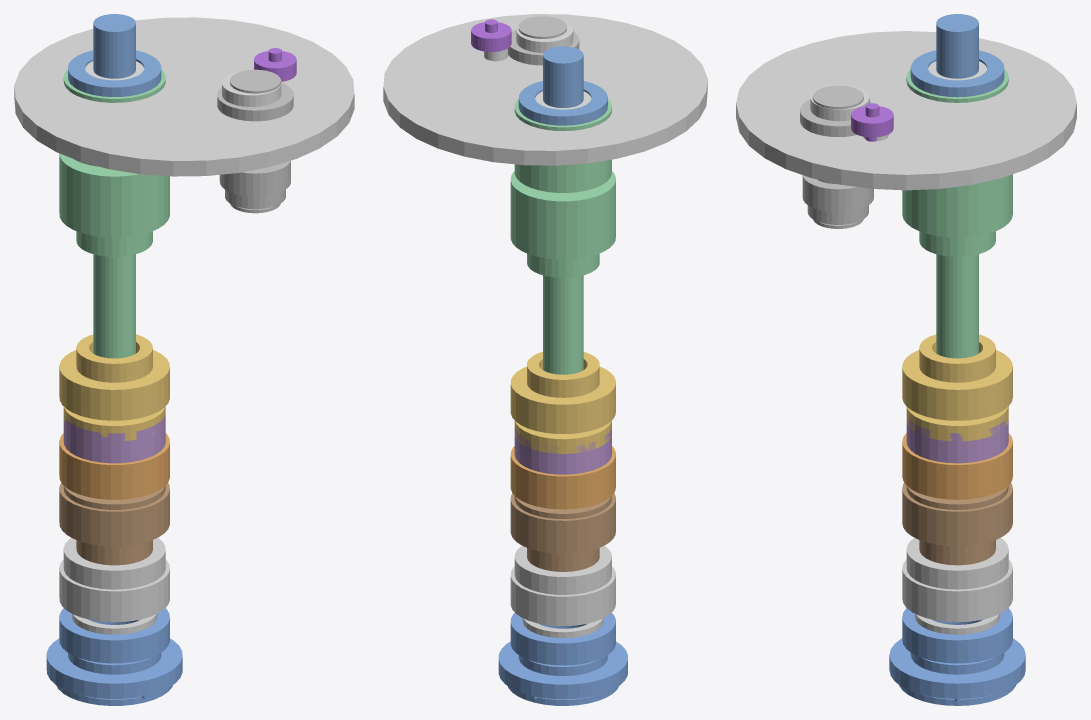
File: gearbox.glb
3 renders of one model, left to right at view 1: azimuth 30°, elevation 25°; view 2: azimuth 150°, elevation 25°; view 3: azimuth 270°, elevation 25°, orthographic. The views are drawn at different scales.
Visible parts, largest first — view 1: Intermediate Plate, 2nd Gear, Output Shaft, Reverse Gear, 1st Gear, Output Shaft Rear Bearing Retainer, 5th Gear, Output Shaft Rear Bearing, Transmission Hub Sleeve No.2, 3rd Gear, Transmission Clutch Hub No.2 (2), Output Shaft Center Bearing (+17 smaller); view 2: Intermediate Plate, 2nd Gear, Transmission Hub Sleeve No.2, Output Shaft, Reverse Gear, 1st Gear, Output Shaft Rear Bearing Retainer, 5th Gear, Output Shaft Rear Bearing, 3rd Gear, Output Shaft Center Bearing, Transmission Clutch Hub No.2 (2) (+16 smaller); view 3: Intermediate Plate, 2nd Gear, Output Shaft, Reverse Gear, 1st Gear, Output Shaft Rear Bearing Retainer, 5th Gear, Output Shaft Rear Bearing, 3rd Gear, Output Shaft Center Bearing, Transmission Clutch Hub No.2 (2), Input Shaft (+17 smaller).
Part boxes in pixels (x1,y1,x2,y2): Intermediate Plate: (14, 17, 354, 176); 2nd Gear: (59, 350, 169, 420); Output Shaft: (93, 254, 135, 358); Reverse Gear: (59, 433, 169, 499); 1st Gear: (59, 482, 169, 546); Output Shaft Rear Bearing Retainer: (46, 638, 182, 698); 5th Gear: (59, 559, 169, 622); Output Shaft Rear Bearing: (59, 608, 169, 663); Transmission Hub Sleeve No.2: (59, 153, 169, 207); 3rd Gear: (59, 183, 169, 237); Transmission Clutch Hub No.2 (2): (63, 413, 165, 463); Output Shaft Center Bearing: (63, 538, 165, 589); Intermediate Plate: (383, 14, 707, 165); 2nd Gear: (510, 366, 615, 433); Transmission Hub Sleeve No.2: (510, 171, 615, 230); Output Shaft: (543, 275, 583, 374); Reverse Gear: (510, 446, 615, 509); 1st Gear: (510, 493, 615, 553); Output Shaft Rear Bearing Retainer: (498, 641, 627, 699); 5th Gear: (510, 566, 615, 626); Output Shaft Rear Bearing: (510, 612, 615, 665); 3rd Gear: (510, 209, 615, 259); Output Shaft Center Bearing: (514, 545, 611, 594); Transmission Clutch Hub No.2 (2): (514, 426, 611, 474); Intermediate Plate: (736, 31, 1076, 190); 2nd Gear: (902, 350, 1012, 420); Output Shaft: (936, 254, 978, 358); Reverse Gear: (902, 433, 1012, 499); 1st Gear: (902, 482, 1012, 546); Output Shaft Rear Bearing Retainer: (889, 638, 1025, 698); 5th Gear: (902, 559, 1012, 622); Output Shaft Rear Bearing: (902, 608, 1012, 663); 3rd Gear: (902, 184, 1012, 237); Output Shaft Center Bearing: (906, 537, 1008, 589); Transmission Clutch Hub No.2 (2): (906, 417, 1008, 463); Input Shaft: (936, 14, 978, 78).
Bounding box in the file's own units: 0.4 × 0.8521 × 0.4.
